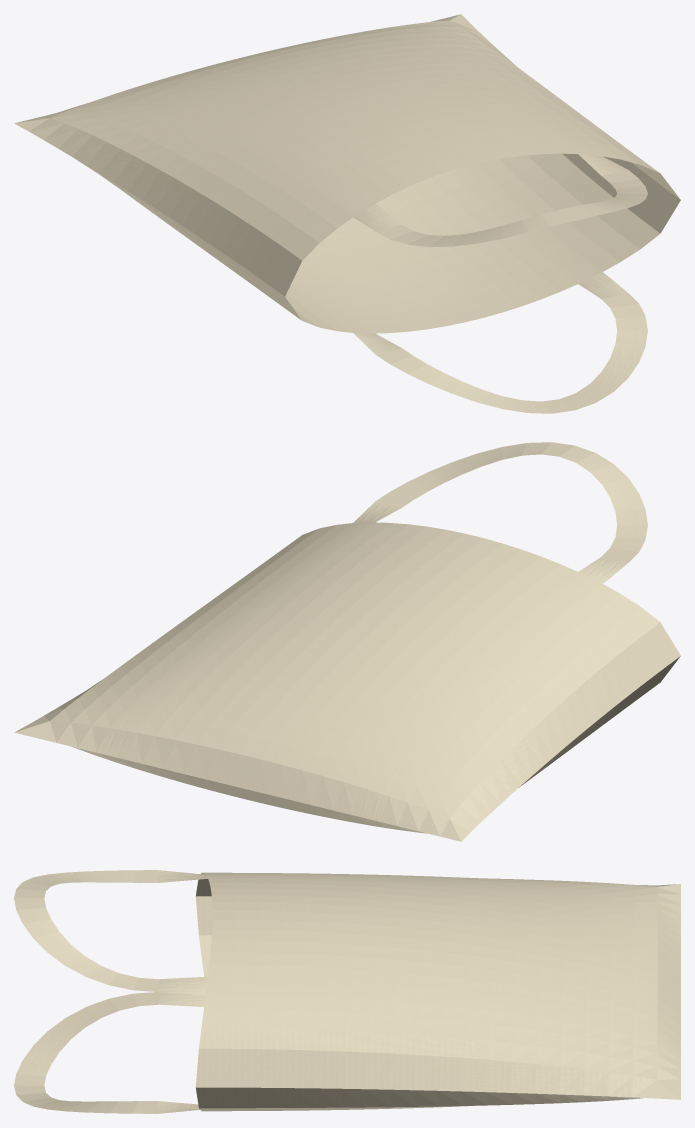
File: two_panel_bag_tall_coarse.obj
The picture shows the model from 3 angles, top to bottom: view 1: azimuth 30°, elevation 25°; view 2: azimuth 150°, elevation 25°; view 3: azimuth 270°, elevation 25°; orthographic projection.
Bounding box in the file's own units: 0.42 × 0.17 × 0.5485.
Materials: 1 (1 with a texture image).
